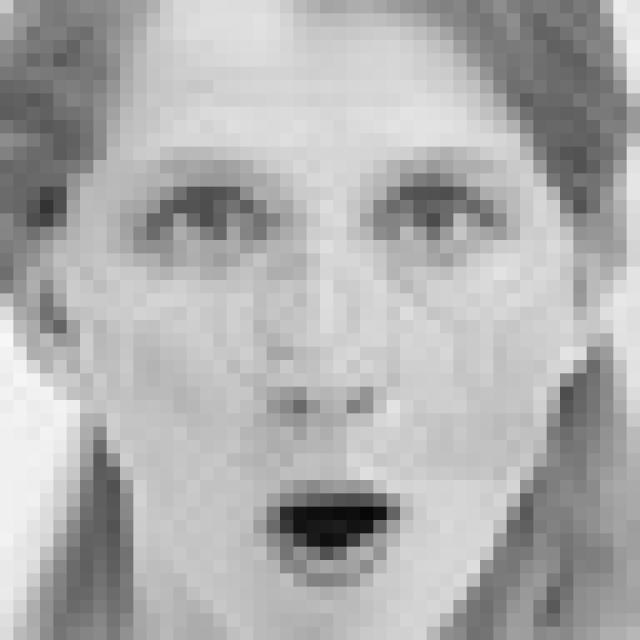surprise: (120, 135, 523, 592)
